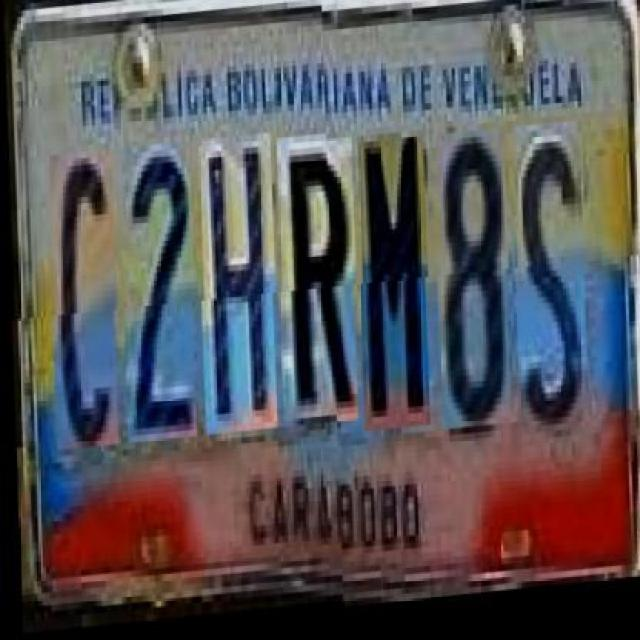2: (119, 152, 196, 452)
8: (434, 138, 511, 438)
c: (49, 158, 120, 458)
h: (198, 146, 278, 446)
m: (356, 138, 430, 438)
r: (274, 145, 358, 432)
s: (512, 132, 588, 446)
